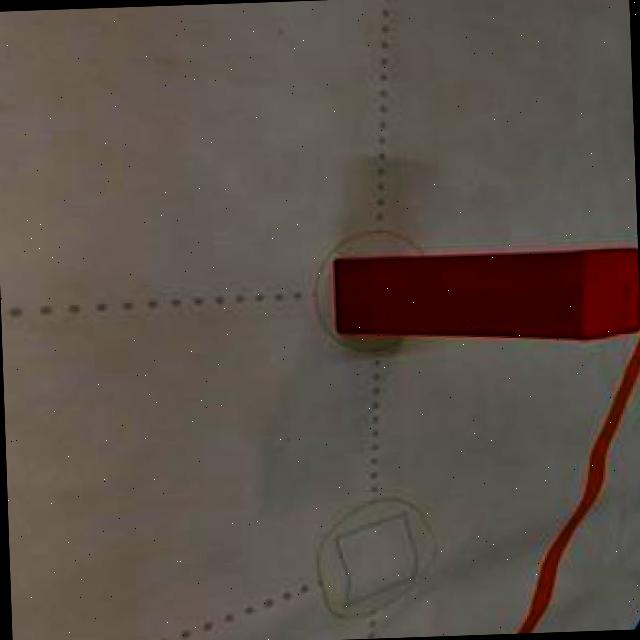redbox: (333, 243, 640, 348)
